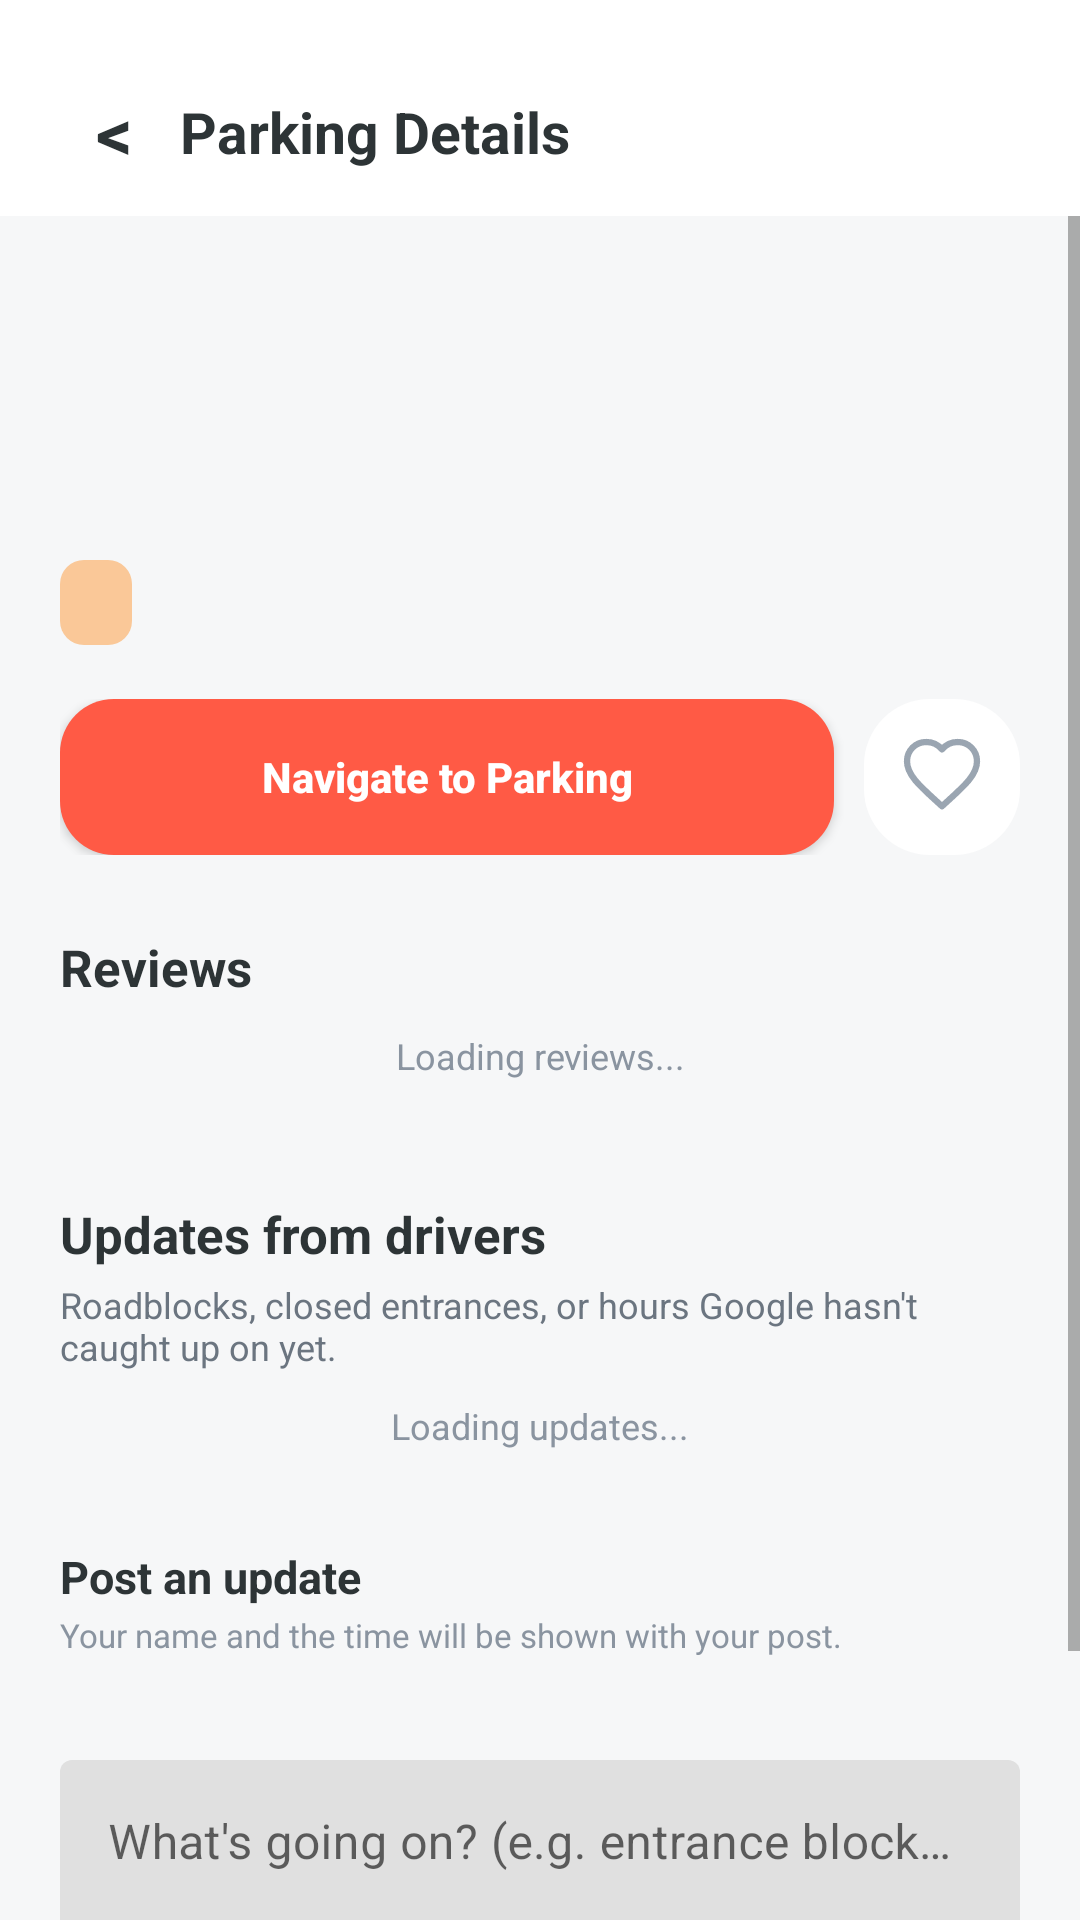

Locate icon controls on the screen. Image size 1080×1920, boxes as [x1,y1,x2,y2].
Add to favourites: [864,699,1020,855]
